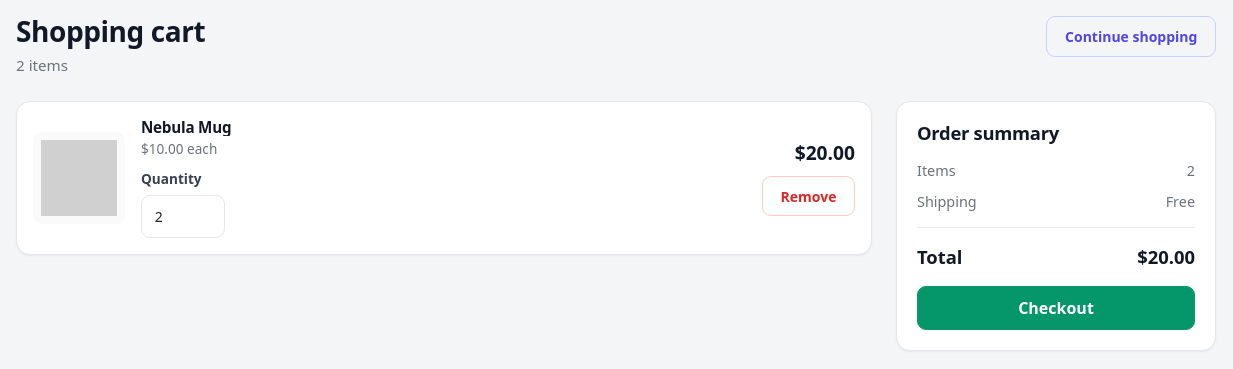
checkout › places the order and empties the cart for a signed-in user
The image size is (1233, 369).
Click the button "Checkout". click: click(1056, 308)
box: [917,286,1195,330]
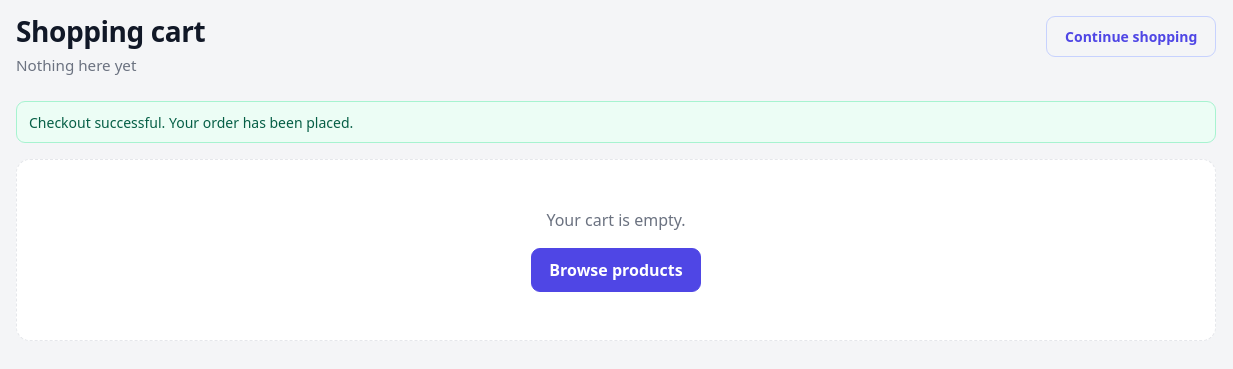
Result: the message shows "Checkout successful." at [29,113,353,132]
